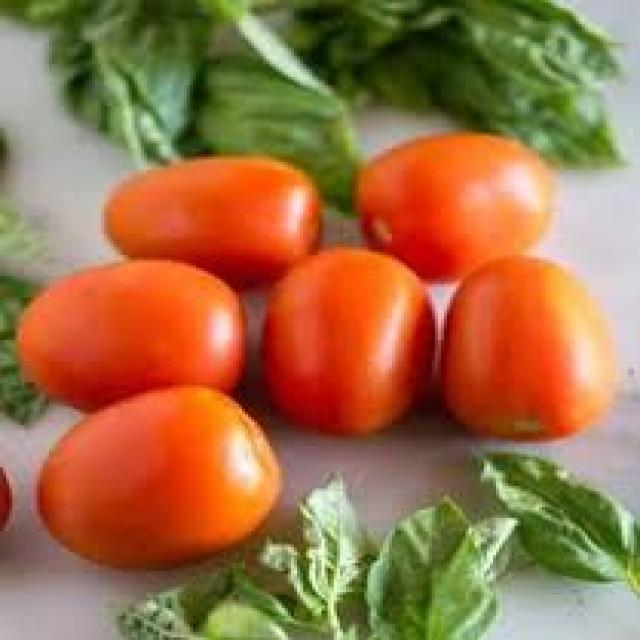Fresh_tomato: (30, 402, 302, 572), (462, 261, 624, 440), (19, 270, 257, 391), (97, 152, 329, 264), (357, 132, 554, 255), (274, 269, 424, 423)
